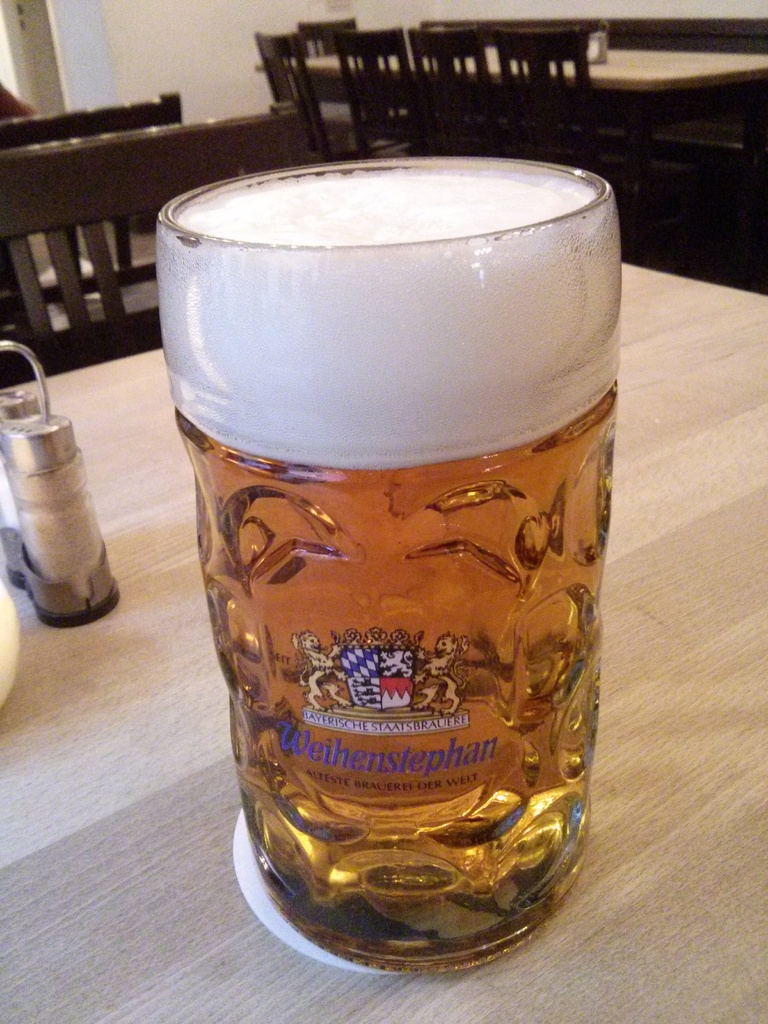Beer: (150, 151, 632, 977)
